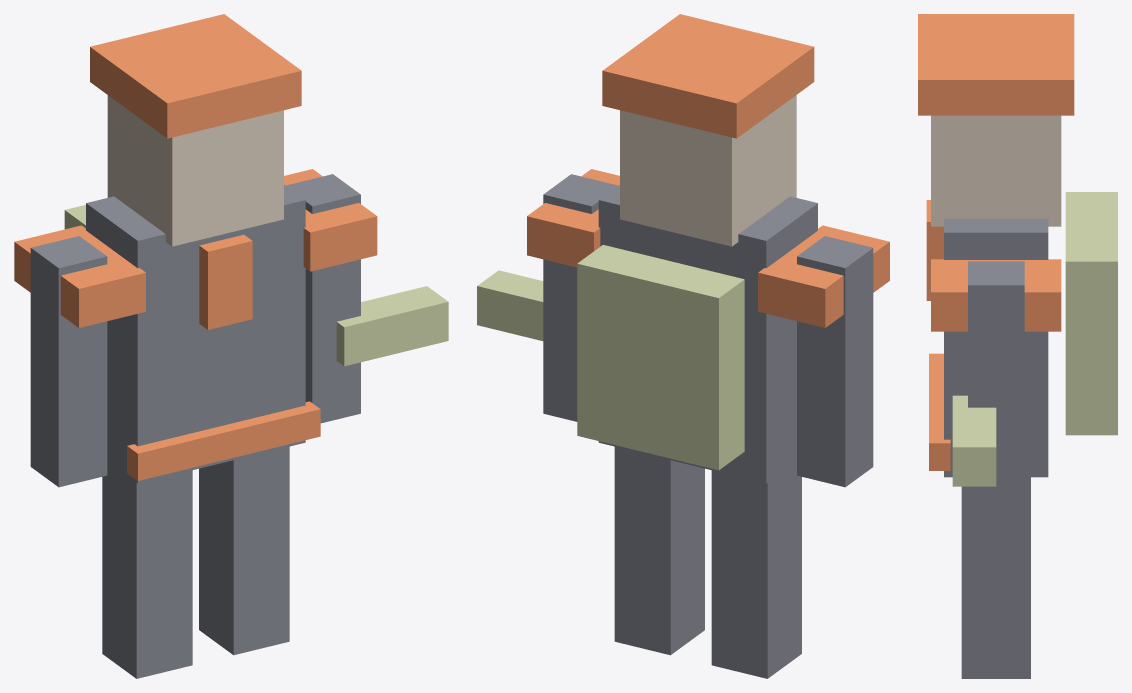
The model's file is 06_elo_riftwalker_tactician_under_quantum.glb.
The picture shows the model from 3 angles, left to right: view 1: azimuth 30°, elevation 25°; view 2: azimuth 150°, elevation 25°; view 3: azimuth 270°, elevation 25°; orthographic projection.
Visible parts, largest first — view 1: Elo Riftwalker, Tactician under Quantum; view 2: Elo Riftwalker, Tactician under Quantum; view 3: Elo Riftwalker, Tactician under Quantum.
Boxes of the visible parts, x1,y1,x2,y2 form: Elo Riftwalker, Tactician under Quantum: (14, 14, 448, 678); Elo Riftwalker, Tactician under Quantum: (477, 14, 889, 678); Elo Riftwalker, Tactician under Quantum: (918, 14, 1117, 678).
Size of the model in its own units: 0.945 by 1.39 by 0.4241.
